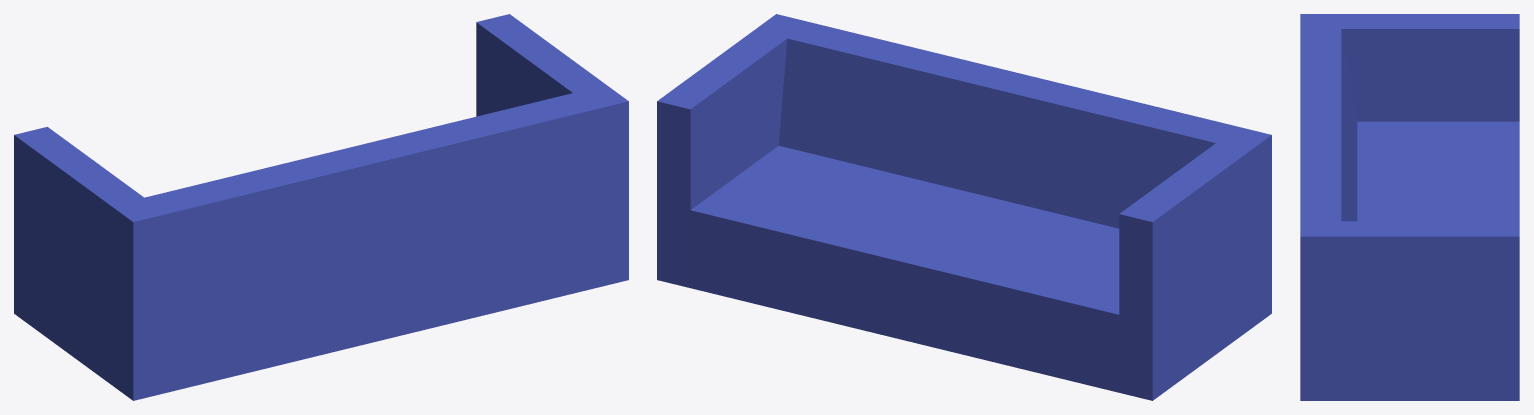
File: Couch.fbx
3 views of the same model, side by side, from view 1: azimuth 30°, elevation 25°; view 2: azimuth 150°, elevation 25°; view 3: azimuth 270°, elevation 25° (orthographic). The views are drawn at different scales.
Parts seen in each view (by area): view 1: Box014; view 2: Box014; view 3: Box014.
Boxes of the visible parts, x1,y1,x2,y2 form: Box014: (14, 14, 628, 400); Box014: (657, 14, 1271, 400); Box014: (1300, 14, 1519, 400).
Bounding box in the file's own units: 121 × 41.64 × 50.36.
